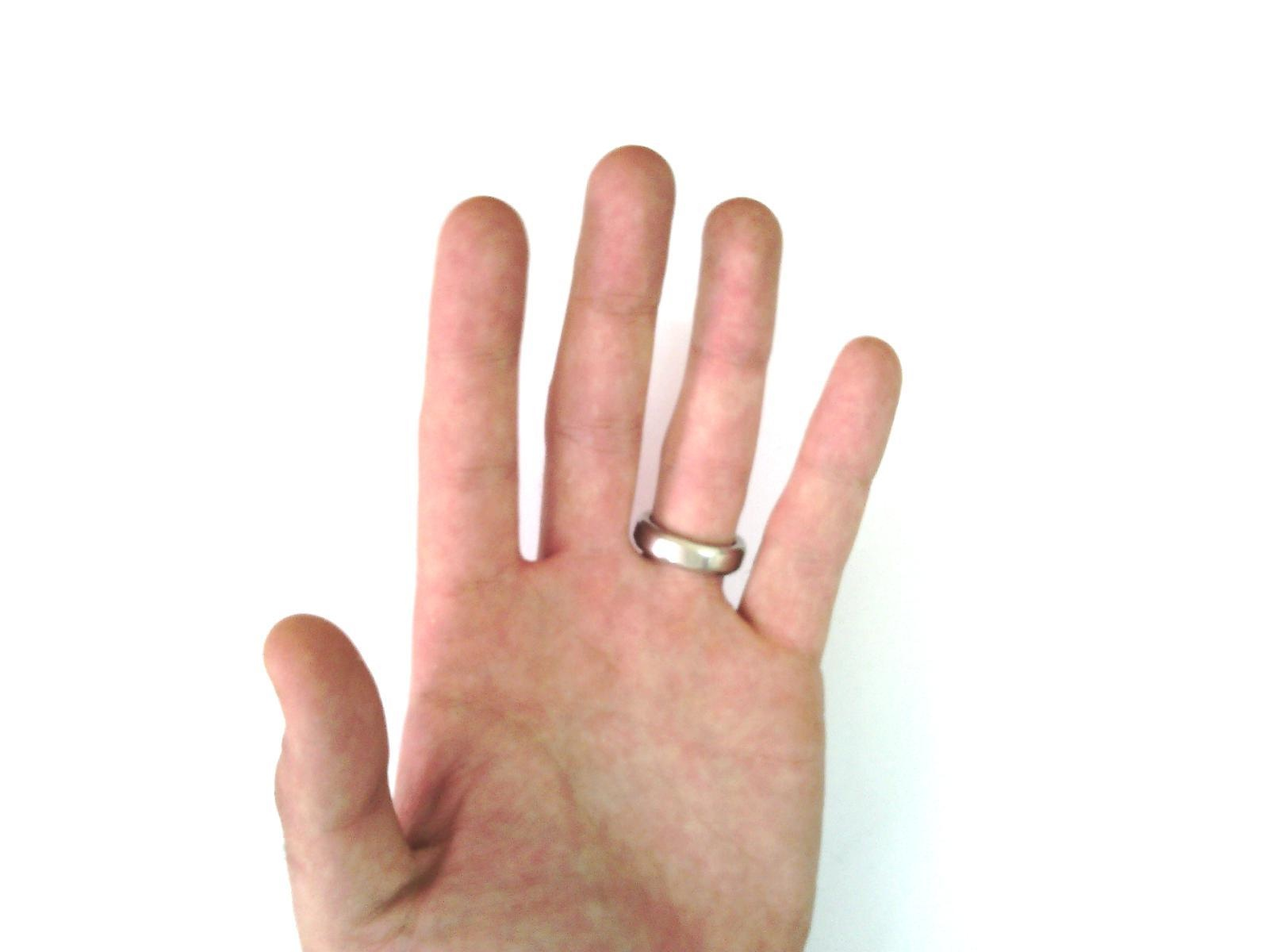open_palm: (261, 144, 906, 952)
